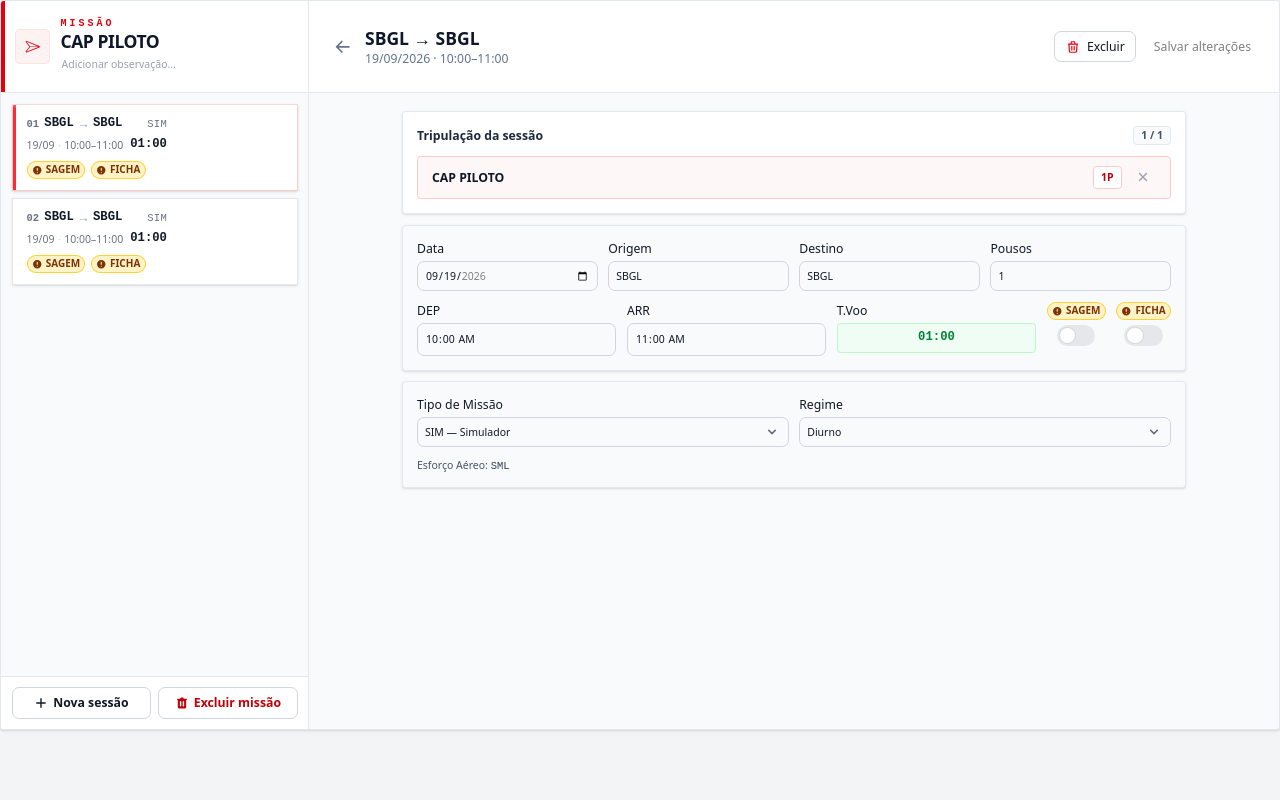
it: reconciliação do rascunho com o servidor › mantém a sessão e mostra o erro quando a exclusão falha por outro motivo
This screenshot has width=1280, height=800.
Click the button with aria-label "Excluir sessão" at [1095, 47], box [1054,31,1136,62]
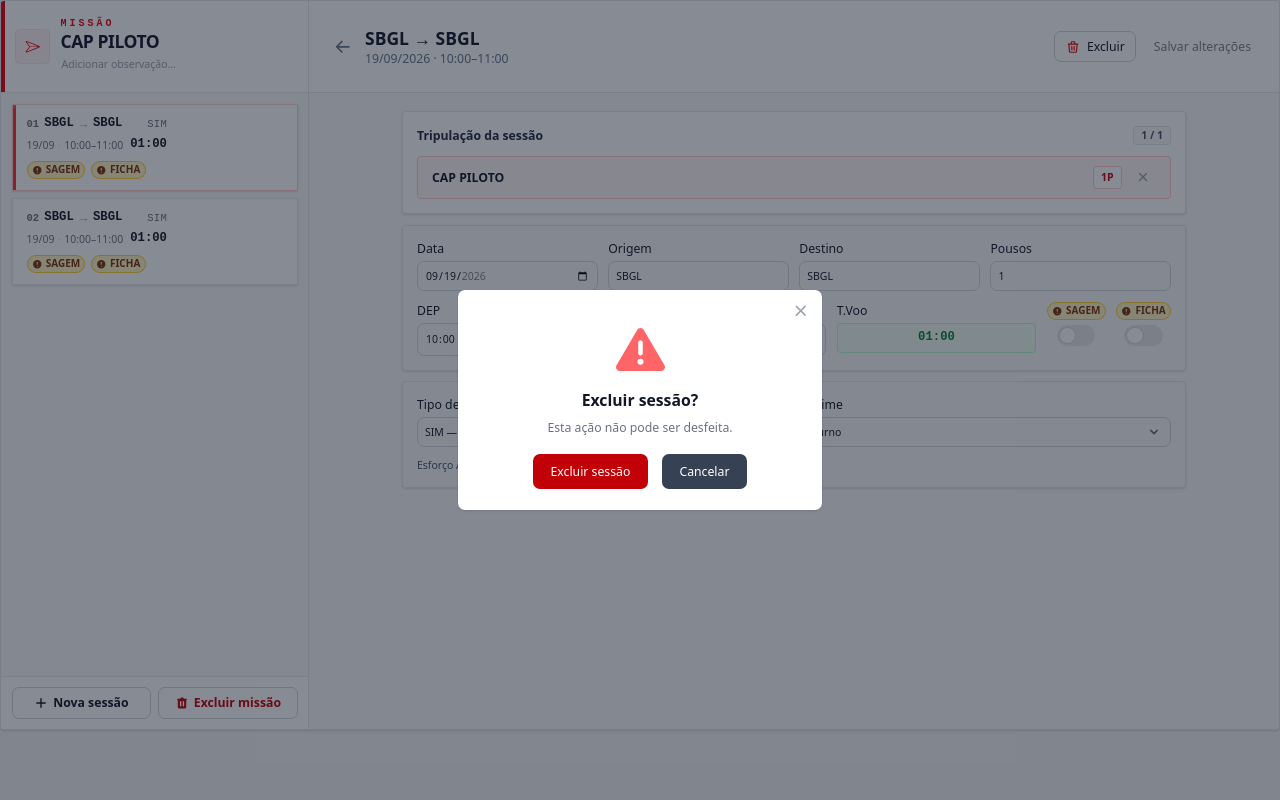
Click the button "Excluir sessão" at [590, 472], box [533,454,648,489]
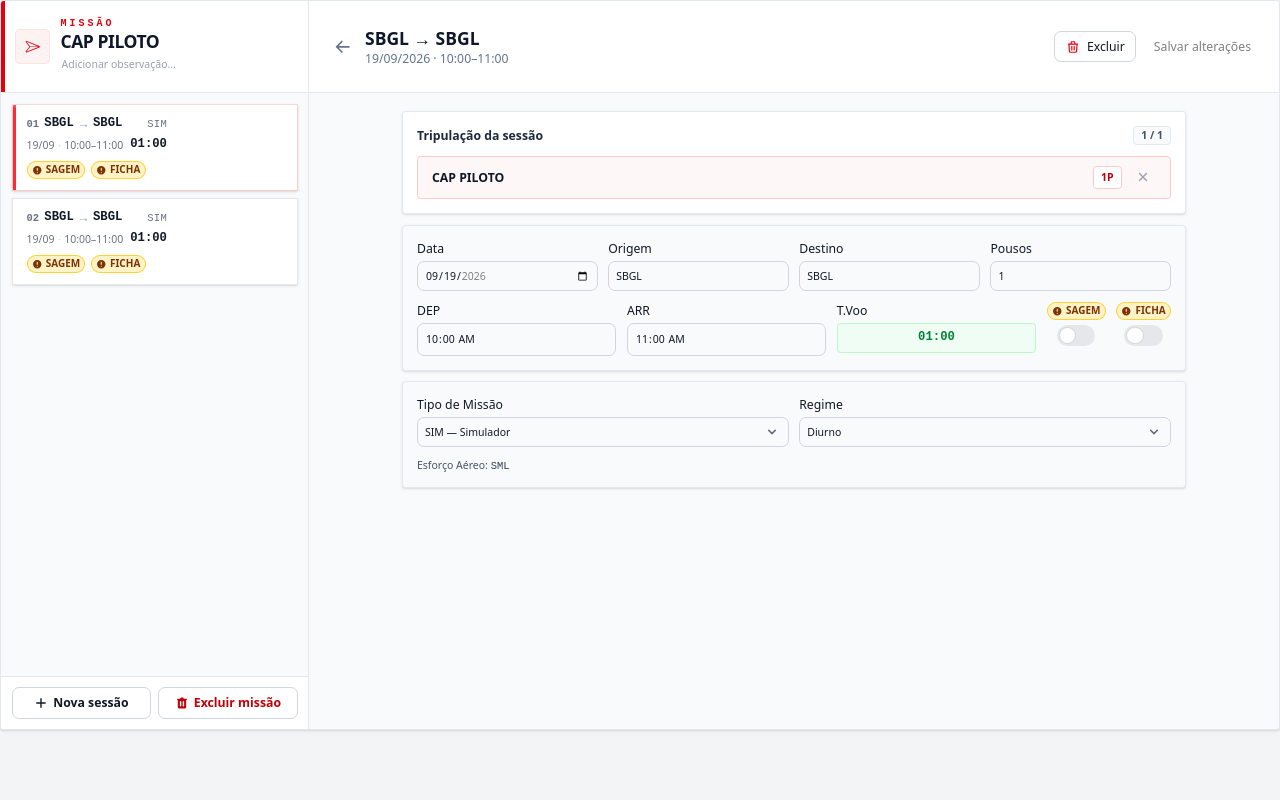
Check: the number of buttons "01 SBGL → SBGL SIM 19/09·10:00–11:00 01:00 SAGEM FICHA" is 2, box [12,104,298,190]; [12,198,298,284]
